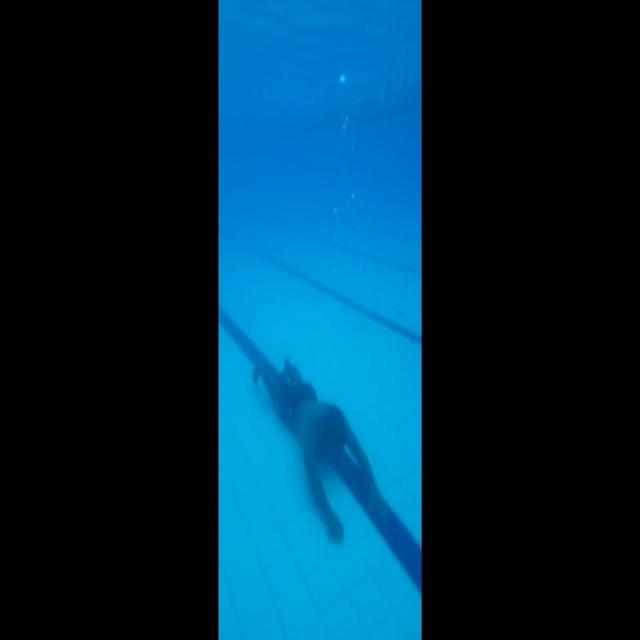drowning: (229, 329, 394, 594)
